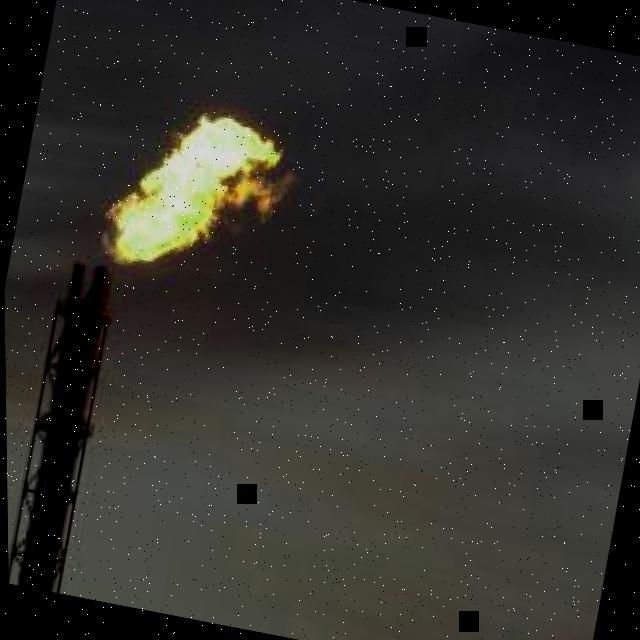fire: (100, 114, 294, 260)
